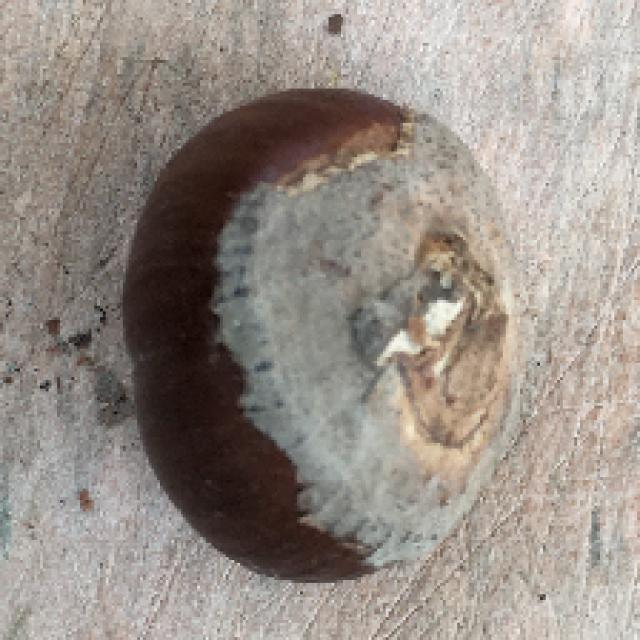damagedHazelnut: (118, 80, 525, 592)
